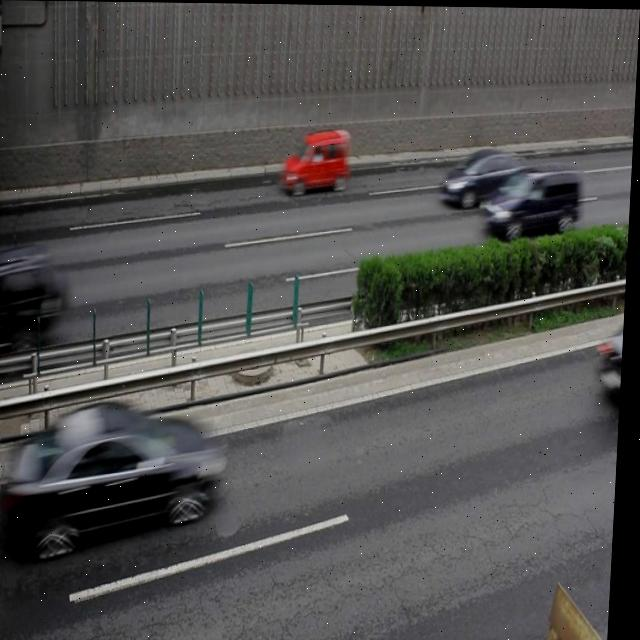car: (38, 399, 228, 547), (441, 147, 535, 211), (280, 129, 351, 194)
truck: (483, 164, 584, 239)
